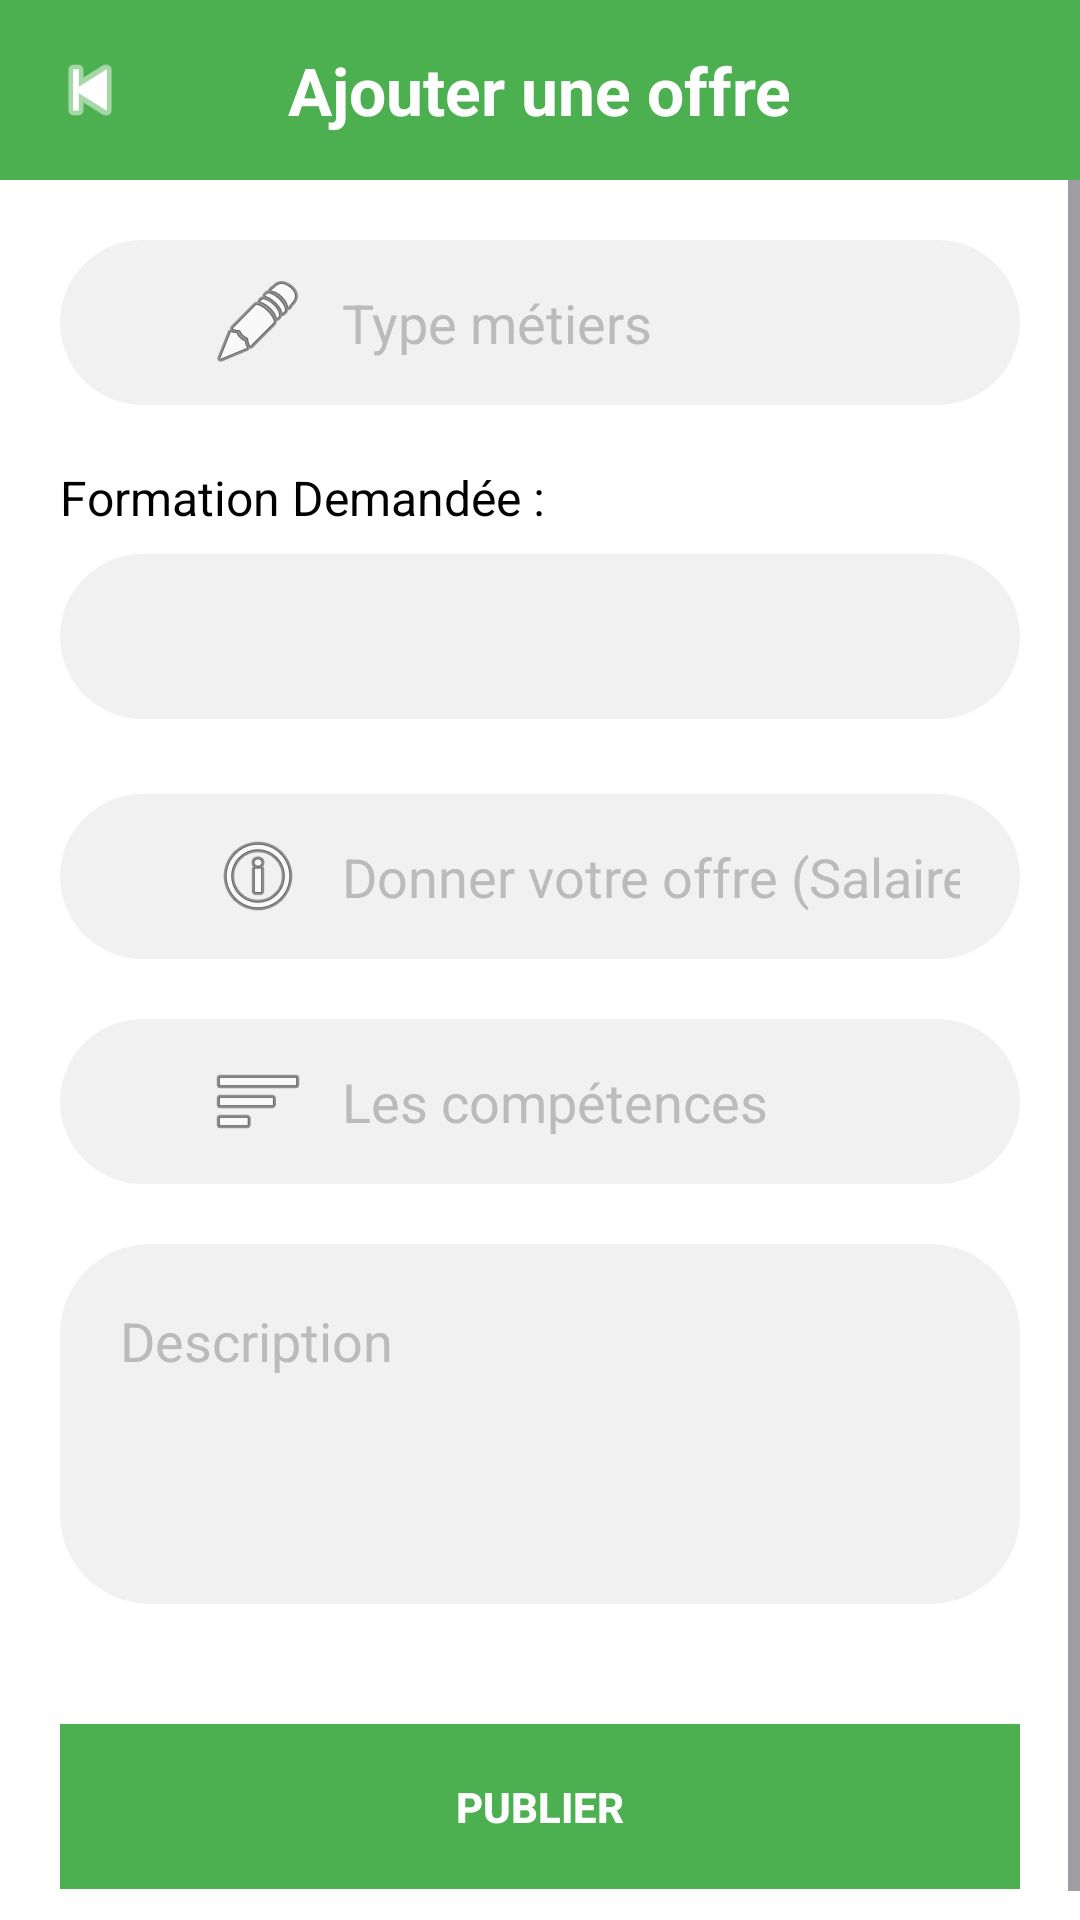

Icons on this 1080 × 1920 Android screen, each with its box as (x1, y1, x2, y2):
Back button: (68, 64, 112, 116)
